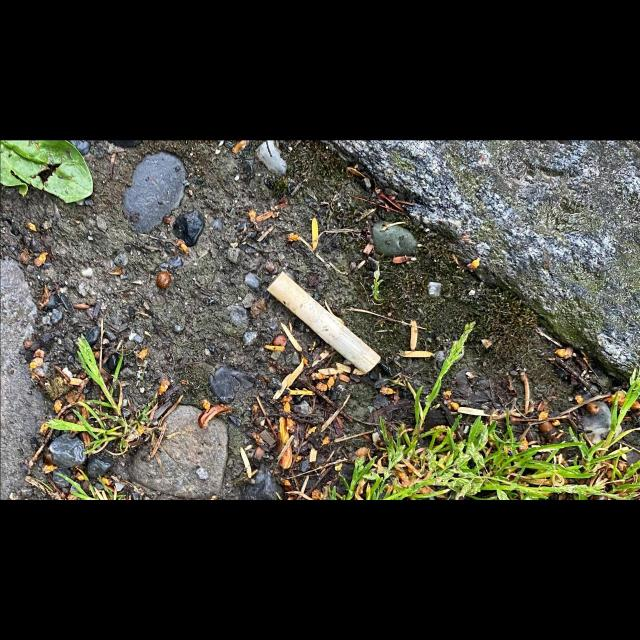cigarette: (266, 270, 381, 375)
